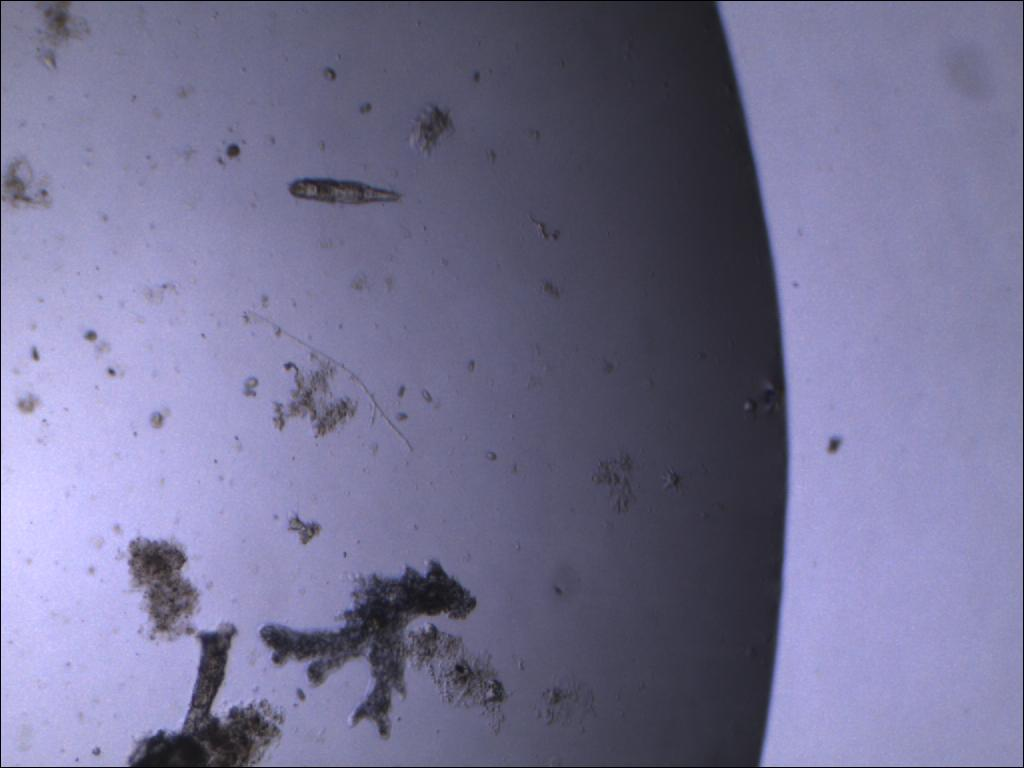amoeba: (256, 552, 484, 747)
